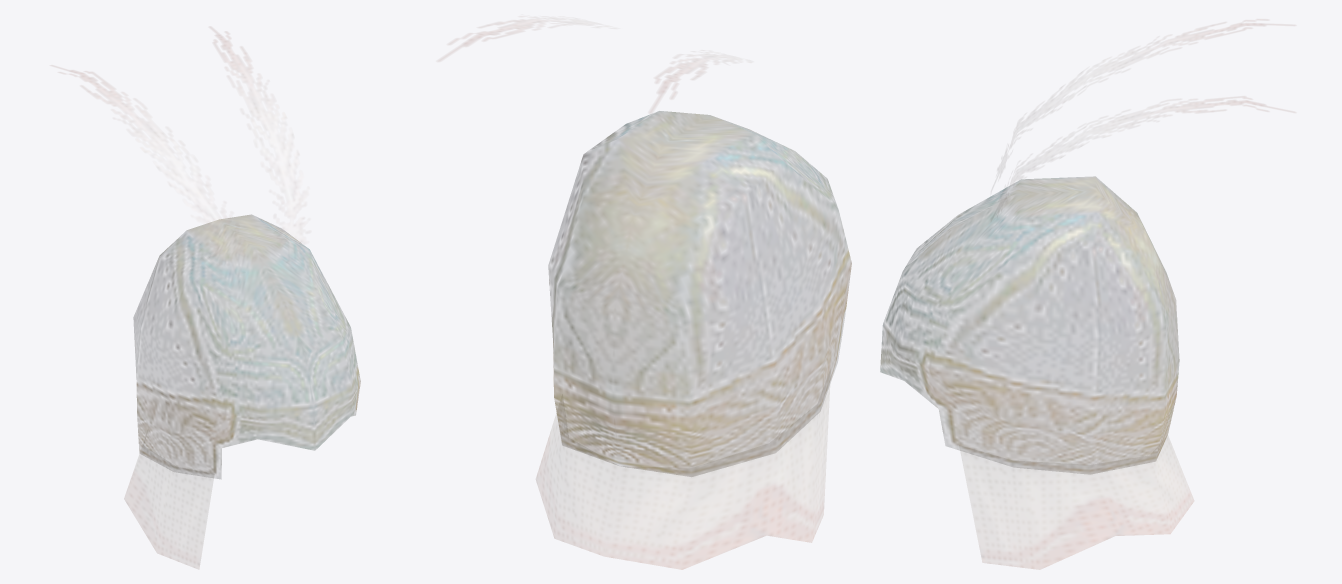
The model's file is heavy_02_ha.glb.
3 renders of one model, left to right at view 1: azimuth 30°, elevation 25°; view 2: azimuth 150°, elevation 25°; view 3: azimuth 270°, elevation 25°, orthographic. The views are drawn at different scales.
Visible parts, largest first — view 1: Heavy_02_ha; view 2: Heavy_02_ha; view 3: Heavy_02_ha.
Boxes of the visible parts, <box> form: Heavy_02_ha: <box>71,35,360,567</box>; Heavy_02_ha: <box>464,18,851,569</box>; Heavy_02_ha: <box>880,24,1262,568</box>.
Size of the model in its own units: 0.1745 by 0.3358 by 0.2953.
Materials: 1 (1 with a texture image).
